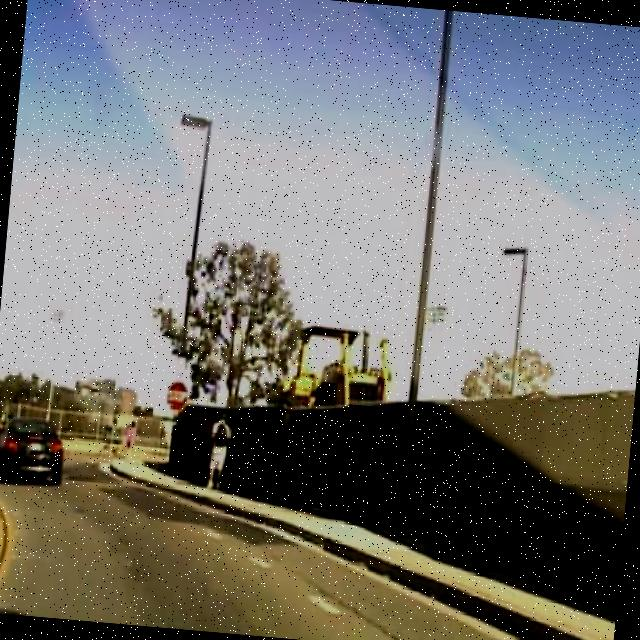Stop: (164, 377, 190, 414)
